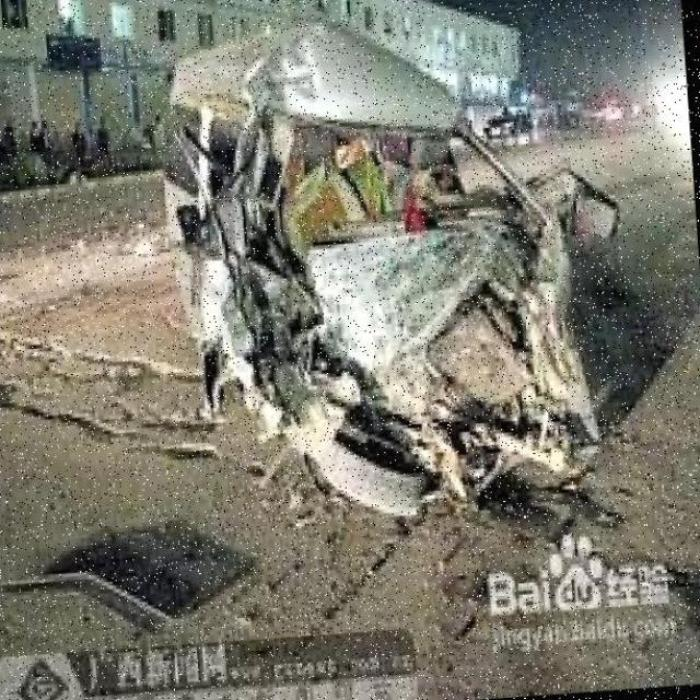Accident: (124, 0, 658, 573)
